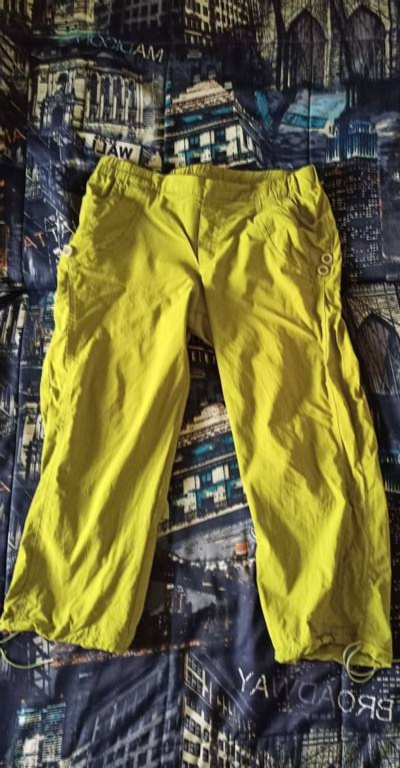Pants: (12, 122, 386, 650)
